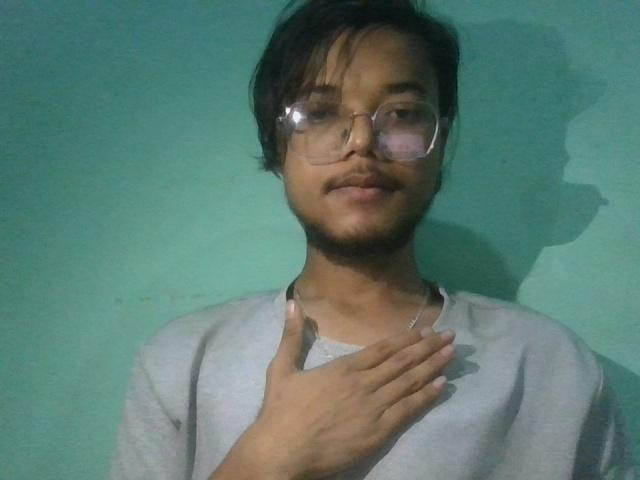Please: (192, 263, 558, 475)
